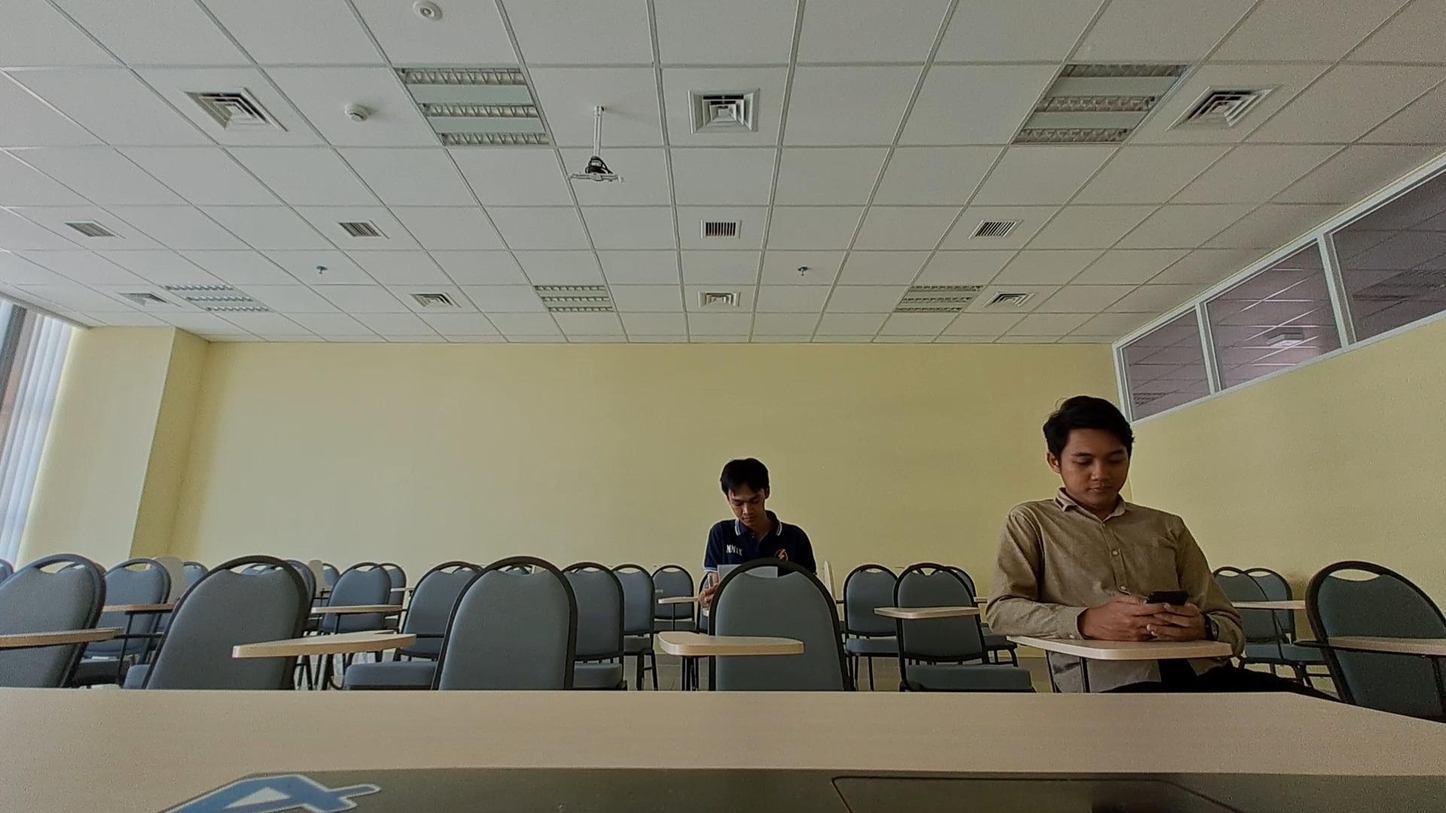phone: (983, 386, 1235, 647)
study: (699, 454, 827, 636)
